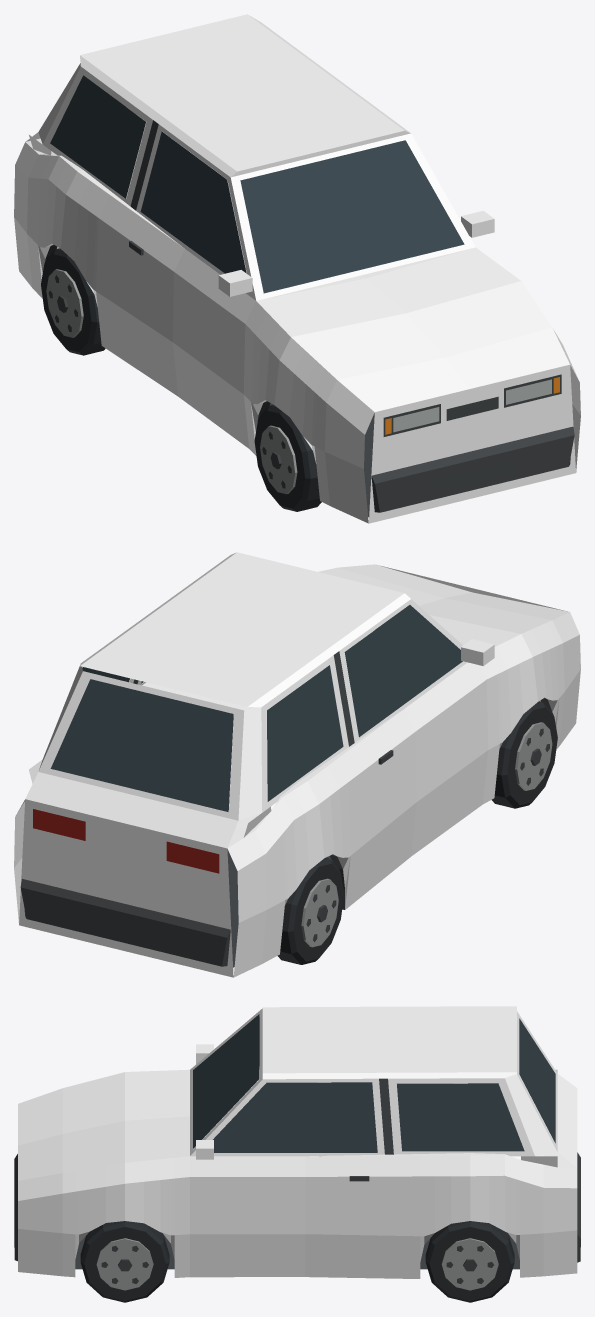
Rendered from sanga_inazuma_98.glb.
3 renders of one model, top to bottom at view 1: azimuth 30°, elevation 25°; view 2: azimuth 150°, elevation 25°; view 3: azimuth 270°, elevation 25°, orthographic. The views are drawn at different scales.
Parts seen in each view (by area): view 1: sanga_inazuma_98; view 2: sanga_inazuma_98; view 3: sanga_inazuma_98.
Boxes of the visible parts, x1,y1,x2,y2 form: sanga_inazuma_98: (14,14,580,523); sanga_inazuma_98: (14,552,580,977); sanga_inazuma_98: (14,1006,580,1302).
Size of the model in its own units: 1.64 by 1.58 by 3.76.
Materials: 8 (1 with a texture image).
